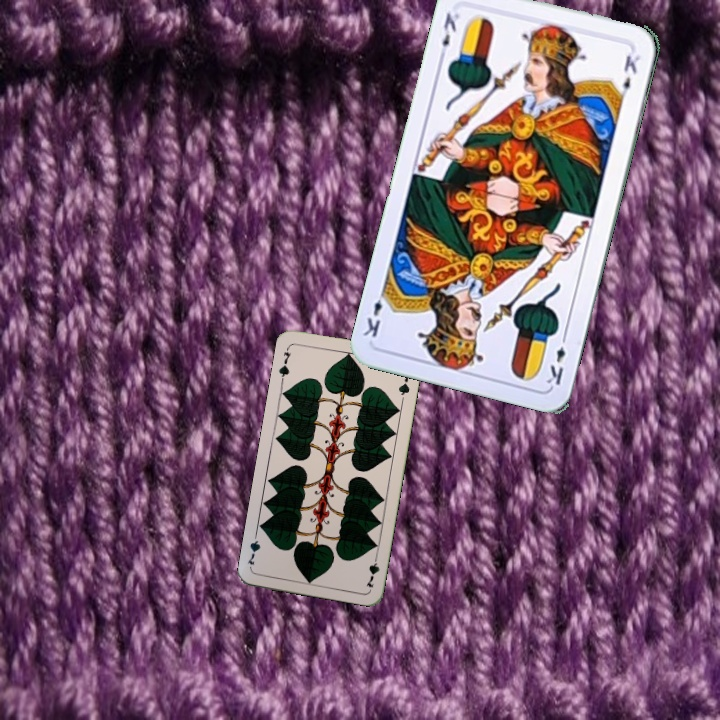EK: (542, 329, 569, 388), (436, 9, 462, 60)
G7: (362, 550, 382, 590), (275, 344, 294, 384)
